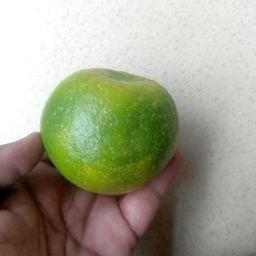Unripe: (39, 68, 180, 195)
